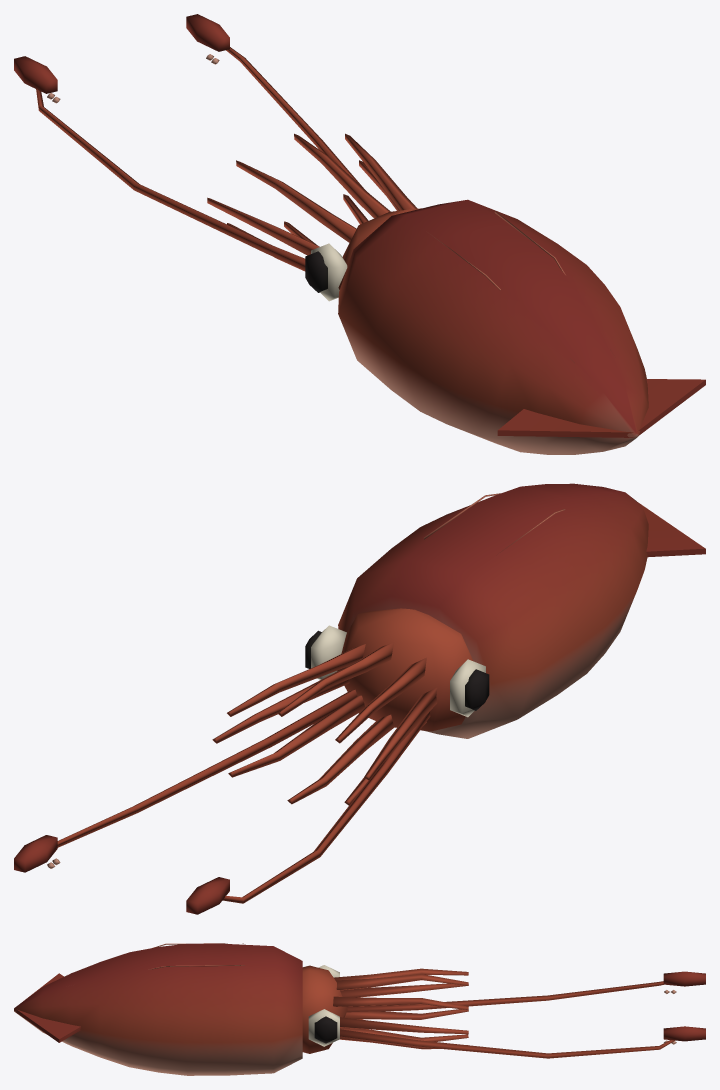
The model's file is fish_giant_squid_low.glb.
3 renders of one model, top to bottom at view 1: azimuth 30°, elevation 25°; view 2: azimuth 150°, elevation 25°; view 3: azimuth 270°, elevation 25°, orthographic. The views are drawn at different scales.
Bounding box in the file's own units: 0.3627 × 0.2861 × 1.6.
